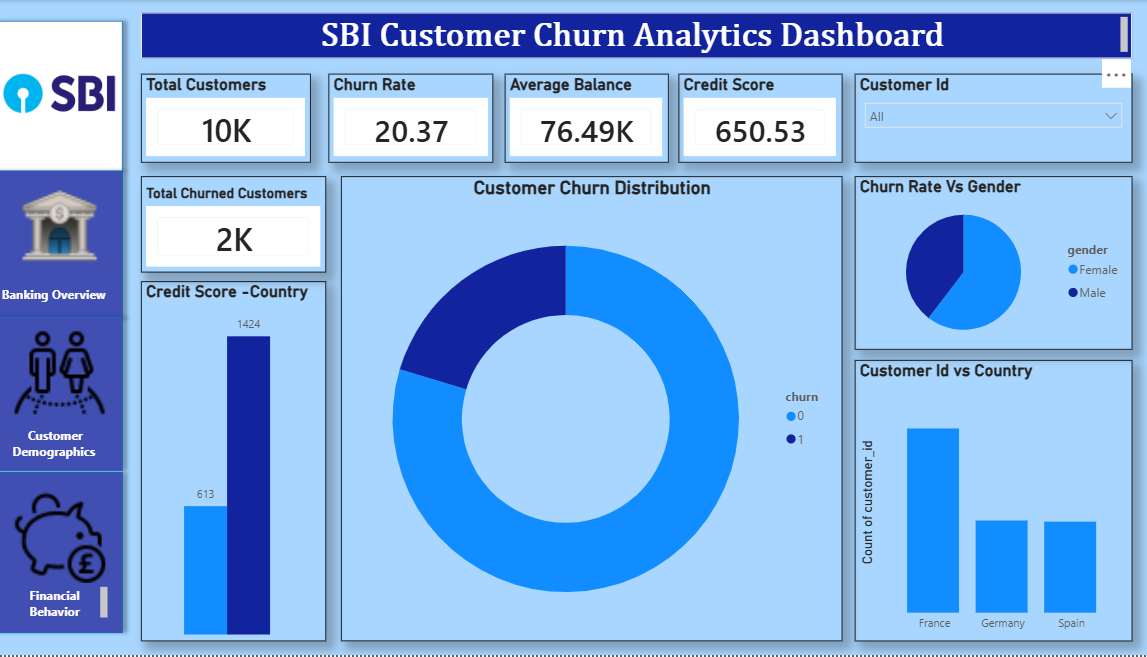

Layout of this report page (visuals, bound fields, positions):
{"tool":"powerbi","page":{"name":"Overview","canvas":[1280,720],"ordinal":0},"visuals":[{"type":"shape","box":[0,13.7,159.2,183.9],"z":0},{"type":"shape","box":[0,178.4,159.2,181.1],"z":1000},{"type":"shape","box":[0,338.9,159.2,186.6],"z":2000},{"type":"shape","box":[0,509.1,159.2,194.9],"z":3000},{"type":"image","box":[12.3,27.4,135.8,150.9],"z":4000},{"type":"cardVisual","title":"Total Customers","fields":{"Data":["Count(cleaned_churn_data.customer_id)"]},"box":[170.2,81,186.6,97.4],"z":5000},{"type":"cardVisual","title":"Churn Rate","fields":{"Data":["cleaned_churn_data.churn rate"]},"box":[376,81,181.1,97.4],"z":6000},{"type":"cardVisual","title":"Average Balance","fields":{"Data":["Avg(cleaned_churn_data.balance)"]},"box":[569.5,81,179.8,97.4],"z":7000},{"type":"slicer","title":"Customer Id","fields":{"Values":["cleaned_churn_data.customer_id"]},"box":[953.7,81,304.6,97.4],"z":8000},{"type":"cardVisual","title":"Total Churned Customers","fields":{"Data":["cleaned_churn_data.Churned Customers"]},"box":[170.2,193.5,203.1,105.7],"z":9000},{"type":"donutChart","title":"Customer Churn Distribution","fields":{"Category":["cleaned_churn_data.churn"],"Y":["Sum(cleaned_churn_data.customer_id)"]},"box":[389.7,193.5,550.3,510.5],"z":10000},{"type":"clusteredColumnChart","title":"Credit Score -Country","fields":{"Y":["Sum(cleaned_churn_data.churn)"],"Series":["cleaned_churn_data.credit_card"]},"box":[170.2,308.7,203.1,395.2],"z":11000},{"type":"cardVisual","title":"Credit Score","fields":{"Data":["Avg(cleaned_churn_data.credit_score)"]},"box":[760.2,81,179.8,97.4],"z":12000},{"type":"pieChart","title":"Churn Rate Vs Gender","fields":{"Y":["cleaned_churn_data.churn rate"],"Category":["cleaned_churn_data.gender"]},"box":[953.7,193.5,304.6,190.7],"z":13000},{"type":"clusteredColumnChart","title":"Customer Id vs Country","fields":{"Y":["CountNonNull(cleaned_churn_data.customer_id)"],"Category":["cleaned_churn_data.country"]},"box":[953.7,395.2,304.6,308.7],"z":14000},{"type":"image","box":[22.2,196.7,117.8,103.3],"z":15000},{"type":"image","box":[22.2,360,117.8,103.3],"z":16000},{"type":"image","box":[21.1,536.7,117.8,103.3],"z":17000},{"type":"textbox","box":[12.2,308.9,127.8,30],"z":18000},{"type":"textbox","box":[12.2,463.3,127.8,45.6],"z":19000},{"type":"textbox","box":[21.1,640,117.8,44.4],"z":20000},{"type":"textbox","box":[170.2,13.7,1088.2,50.8],"z":21000}]}

Visuals, with their boxes in screenshot pixels (x1, y1, x2, y2), scaled from the page's 1280x720 canvas onto the 1147x657 screenshot:
shape: rect(0, 13, 143, 180)
shape: rect(0, 163, 143, 328)
shape: rect(0, 309, 143, 480)
shape: rect(0, 465, 143, 642)
image: rect(11, 25, 133, 163)
"Total Customers" cardVisual: rect(153, 74, 320, 163)
"Churn Rate" cardVisual: rect(337, 74, 499, 163)
"Average Balance" cardVisual: rect(510, 74, 671, 163)
"Customer Id" slicer: rect(855, 74, 1128, 163)
"Total Churned Customers" cardVisual: rect(153, 177, 335, 273)
"Customer Churn Distribution" donutChart: rect(349, 177, 842, 642)
"Credit Score -Country" clusteredColumnChart: rect(153, 282, 335, 642)
"Credit Score" cardVisual: rect(681, 74, 842, 163)
"Churn Rate Vs Gender" pieChart: rect(855, 177, 1128, 351)
"Customer Id vs Country" clusteredColumnChart: rect(855, 361, 1128, 642)
image: rect(20, 179, 125, 274)
image: rect(20, 328, 125, 423)
image: rect(19, 490, 124, 584)
textbox: rect(11, 282, 125, 309)
textbox: rect(11, 423, 125, 464)
textbox: rect(19, 584, 124, 625)
textbox: rect(153, 13, 1128, 59)
